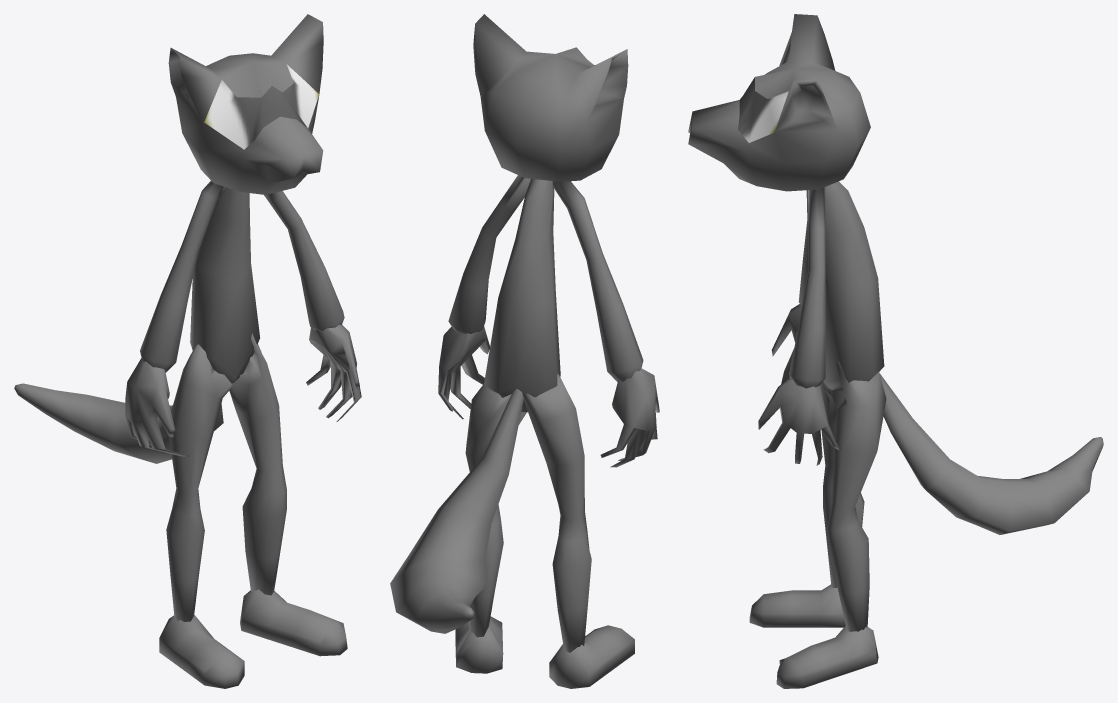
File: werewolfstand1.obj
3 renders of one model, left to right at view 1: azimuth 30°, elevation 25°; view 2: azimuth 150°, elevation 25°; view 3: azimuth 270°, elevation 25°, orthographic. The views are drawn at different scales.
Visible parts, largest first — view 1: Sphere001, Object001; view 2: Sphere001; view 3: Sphere001, Object001.
Part boxes in pixels (<box>): Sphere001: <box>14,14,361,688</box>; Object001: <box>204,64,319,149</box>; Sphere001: <box>390,14,659,688</box>; Sphere001: <box>688,14,1103,688</box>; Object001: <box>738,77,788,142</box>.
Size of the model in its own units: 57.66 by 160 by 100.
